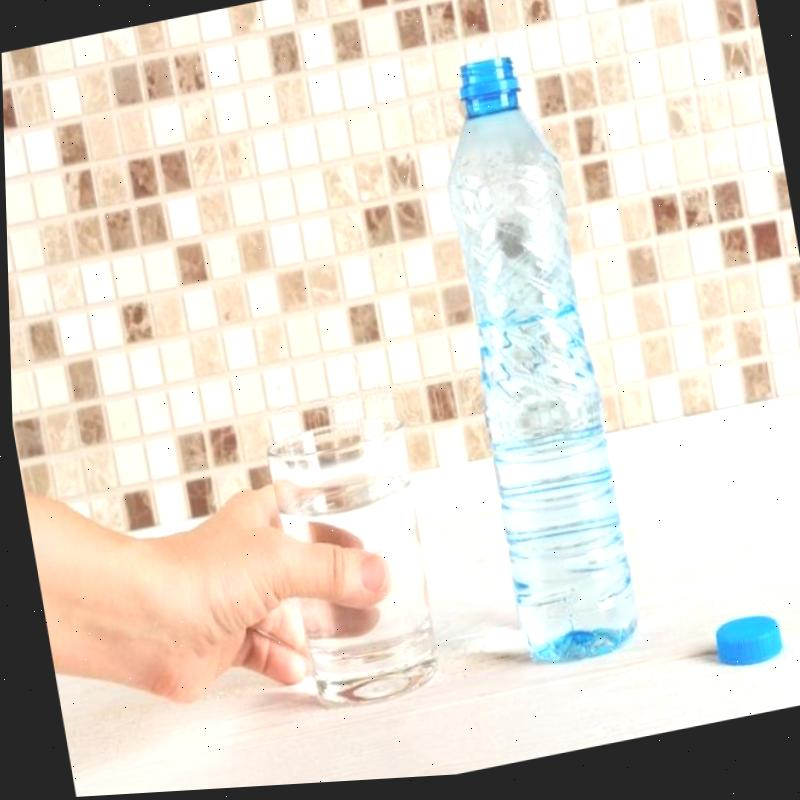botella: (422, 49, 640, 678)
